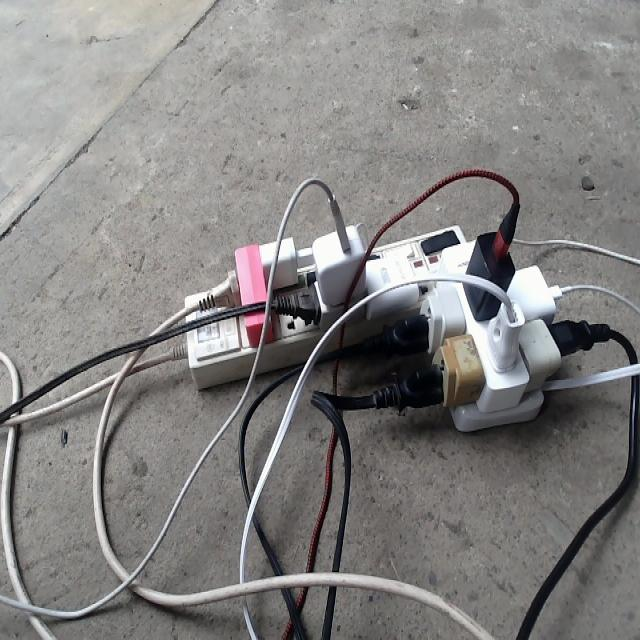-: (183, 216, 569, 435)
